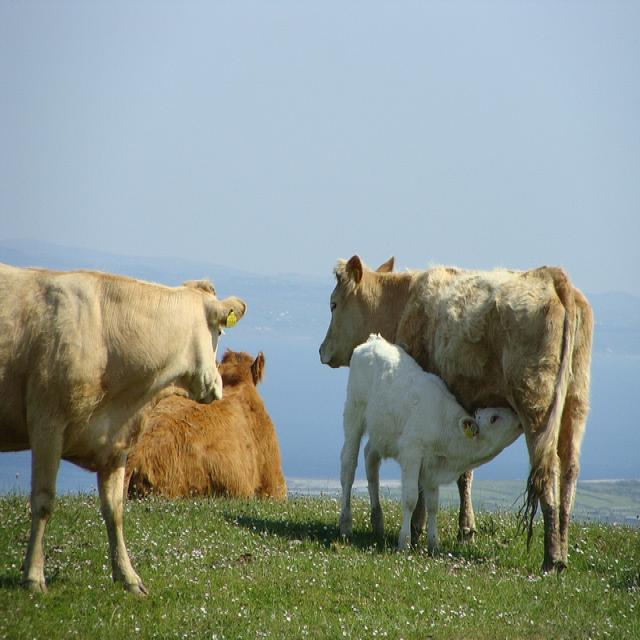cow: (323, 257, 594, 580), (0, 262, 244, 598), (337, 332, 523, 551), (125, 346, 285, 502)
